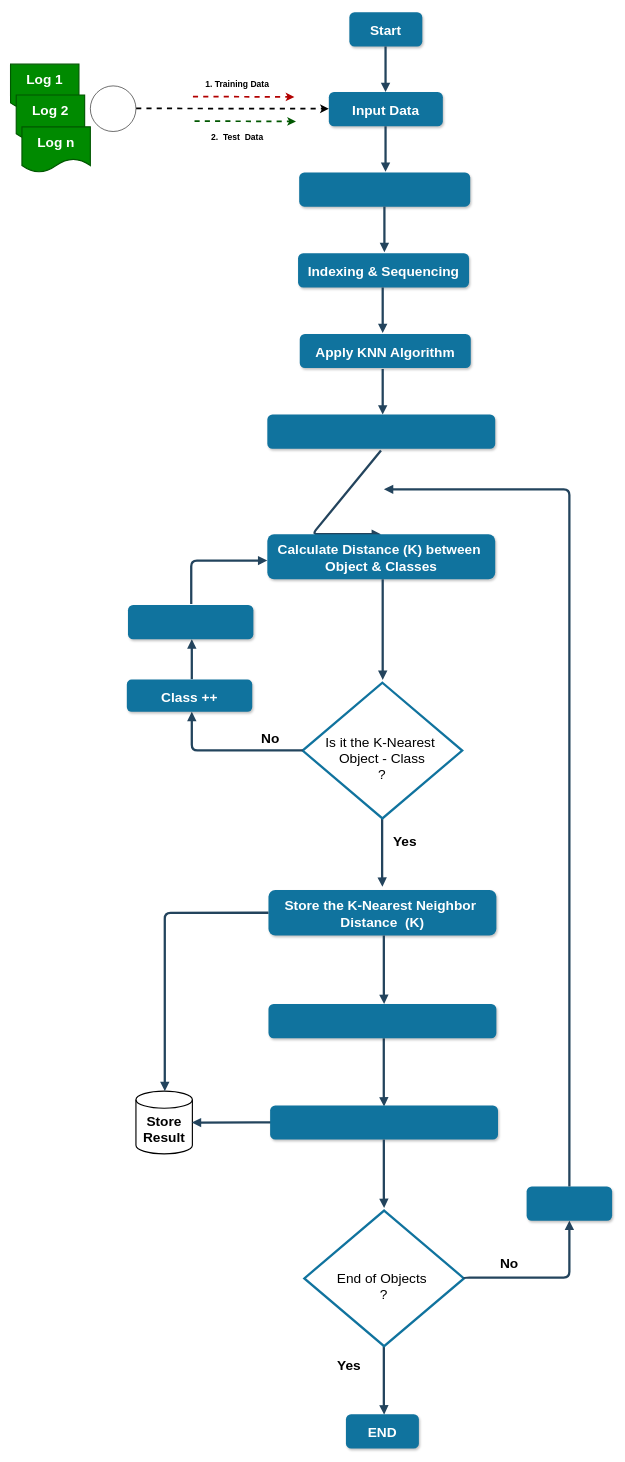
Image size: 625x1462. Some labels were removed from this diagram. Here are the shapes that lost their labels. From the top down, the centre of each, then its label:
the point at 113,108: Logs
the point at 385,190: Pre - Processing
the point at 381,432: Select Very First Object / Value
the point at 190,622: Select Next Class
the point at 382,1021: Evaluate Model Training
the point at 384,1123: Store Trained Model
the point at 569,1204: Object ++
